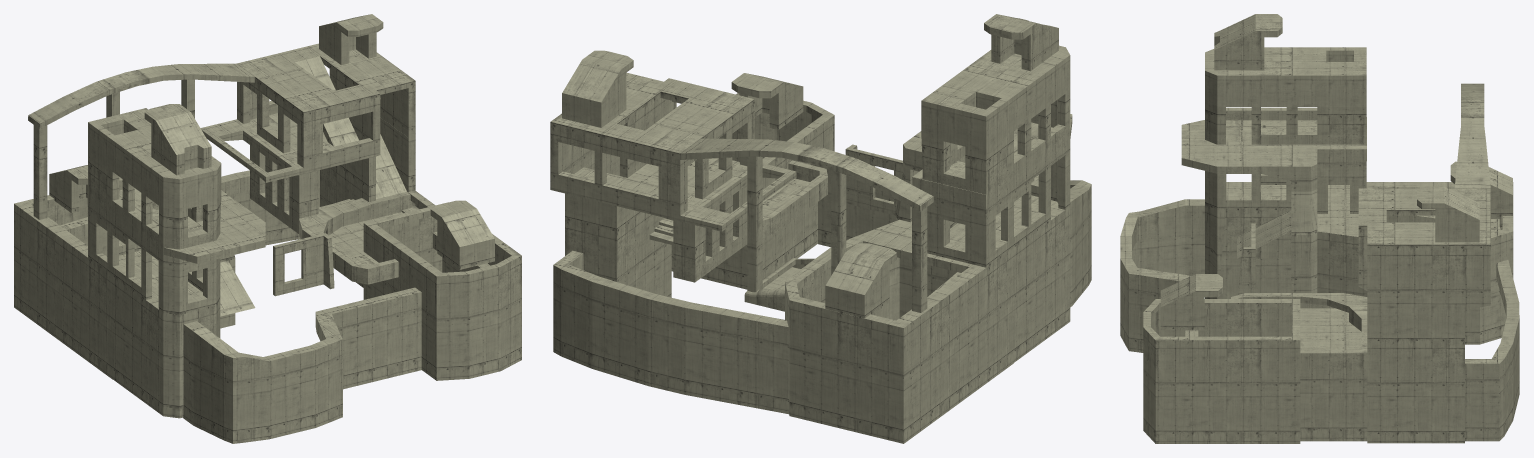
File: SM_NeoLD_12_Block_00.fbx
The picture shows the model from 3 angles, left to right: view 1: azimuth 30°, elevation 25°; view 2: azimuth 150°, elevation 25°; view 3: azimuth 270°, elevation 25°; orthographic projection. The views are drawn at different scales.
Visible parts, largest first — view 1: SM_NeoLD_12_Block_00; view 2: SM_NeoLD_12_Block_00; view 3: SM_NeoLD_12_Block_00.
Part boxes in pixels (bbox=[...]): SM_NeoLD_12_Block_00: bbox=[14, 14, 521, 443]; SM_NeoLD_12_Block_00: bbox=[550, 14, 1091, 443]; SM_NeoLD_12_Block_00: bbox=[1120, 14, 1519, 443].
Bounding box in the file's own units: 3559 × 2896 × 3776.
